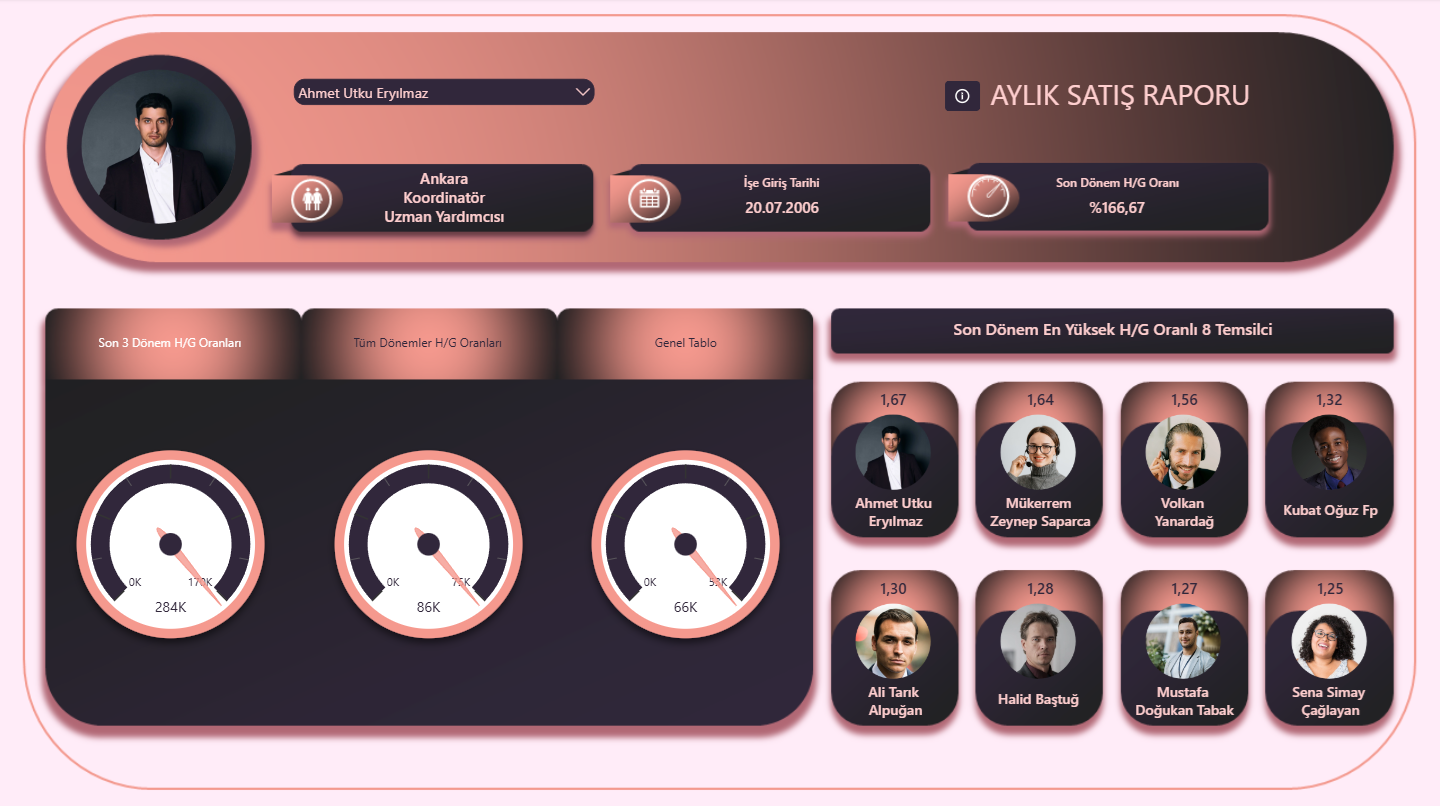

The page's visual inventory and layout, read from the dashboard file:
{"tool":"powerbi","page":{"name":"1. sayfa","canvas":[1920,1080],"ordinal":0},"visuals":[{"type":"slicer","fields":{"Values":["son_dönem.Personel İsmi"]},"box":[388.1,102.1,410,46.7],"z":0},{"type":"tableEx","fields":{"Values":["son_dönem.Foto Url"]},"box":[89,40.9,272.8,296.2],"z":1000},{"type":"card","fields":{"Values":["Min(son_dönem.Bölgesi)"]},"box":[388.1,214.5,410,55.4],"z":2000},{"type":"card","fields":{"Values":["Min(son_dönem.Görevi)"]},"box":[388.1,241.5,410,51.1],"z":3000},{"type":"card","fields":{"Values":["Min(son_dönem.Ünvanı)"]},"box":[388.1,267,410,51.1],"z":4000},{"type":"textbox","box":[844.7,233.4,395.4,37.9],"z":5000},{"type":"card","fields":{"Values":["Min(son_dönem.İşe Giriş Tarihi)"]},"box":[837.4,255.3,410,51.1],"z":6000},{"type":"textbox","box":[1291.2,233.4,395.4,37.9],"z":6001},{"type":"card","fields":{"Values":["Sum(son_dönem.H/G)"]},"box":[1283.9,255.3,410,51.1],"z":6002},{"type":"textbox","box":[1107.4,426,749.9,40.9],"z":6003},{"type":"tableEx","fields":{"Values":["Ölçüler.birinci_foto"]},"box":[1119,500.4,148.8,175.1],"z":6004},{"type":"card","fields":{"Values":["Ölçüler.birinci_isim"]},"box":[1110.3,631.7,166.3,102.1],"z":6005},{"type":"card","fields":{"Values":["Ölçüler.birinci_hg"]},"box":[1107.4,485.8,166.3,102.1],"z":6006},{"type":"tableEx","fields":{"Values":["Ölçüler.ikinci_foto"]},"box":[1311.6,500.4,148.8,175.1],"z":6007},{"type":"card","fields":{"Values":["Ölçüler.ikinci_isim"]},"box":[1302.9,631.7,166.3,102.1],"z":6008},{"type":"card","fields":{"Values":["Ölçüler.ikinci_hg"]},"box":[1302.9,485.8,166.3,102.1],"z":6009},{"type":"tableEx","fields":{"Values":["Ölçüler.ucuncu_foto"]},"box":[1504.2,500.4,148.8,175.1],"z":6010},{"type":"card","fields":{"Values":["Ölçüler.ucuncu_isim"]},"box":[1495.4,631.7,166.3,102.1],"z":6011},{"type":"card","fields":{"Values":["Ölçüler.ucuncu_hg"]},"box":[1495.4,485.8,166.3,102.1],"z":6012},{"type":"tableEx","fields":{"Values":["Ölçüler.dorduncu_foto"]},"box":[1698,500.2,148.8,175.1],"z":6013},{"type":"card","fields":{"Values":["Ölçüler.dorduncu_isim"]},"box":[1689.3,631.5,166.3,102.1],"z":6014},{"type":"card","fields":{"Values":["Ölçüler.sekizinci_hg"]},"box":[1689.5,736.8,166.3,102.1],"z":6015},{"type":"tableEx","fields":{"Values":["Ölçüler.besinci_foto"]},"box":[1119,751.4,148.8,175.1],"z":6016},{"type":"card","fields":{"Values":["Ölçüler.besinci_isim"]},"box":[1110.3,882.7,166.3,102.1],"z":6017},{"type":"card","fields":{"Values":["Ölçüler.dorduncu_hg"]},"box":[1688,485.8,166.3,102.1],"z":6018},{"type":"tableEx","fields":{"Values":["Ölçüler.altinci_foto"]},"box":[1311.6,751.4,148.8,175.1],"z":6019},{"type":"card","fields":{"Values":["Ölçüler.altinci_isim"]},"box":[1301.4,882.7,166.3,102.1],"z":6020},{"type":"card","fields":{"Values":["Ölçüler.besinci_hg"]},"box":[1107.4,736.8,166.3,102.1],"z":6021},{"type":"tableEx","fields":{"Values":["Ölçüler.yedinci_foto"]},"box":[1504.2,751.4,148.8,175.1],"z":6022},{"type":"card","fields":{"Values":["Ölçüler.yedinci_isim"]},"box":[1495.4,882.7,166.3,102.1],"z":6023},{"type":"card","fields":{"Values":["Ölçüler.altinci_hg"]},"box":[1302.9,736.8,166.3,102.1],"z":6024},{"type":"tableEx","fields":{"Values":["Ölçüler.sekizinci_foto"]},"box":[1698.2,751.4,148.8,175.1],"z":6025},{"type":"card","fields":{"Values":["Ölçüler.sekizinci_isim"]},"box":[1689.5,882.7,166.3,102.1],"z":6026},{"type":"card","fields":{"Values":["Ölçüler.yedinci_hg"]},"box":[1495.4,736.8,166.3,102.1],"z":6027},{"type":"dg5AAA90EFEFE747CB9357C4FC19B85A58","fields":{"max":["Sum(tüm_dönem_hg.Hedef)"],"pointerValue":["Sum(tüm_dönem_hg.Satış)"],"percentage":["Sum(tüm_dönem_hg.H/G)"]},"box":[70.5,583.9,318.1,342.9],"z":6028},{"type":"dg5AAA90EFEFE747CB9357C4FC19B85A58","fields":{"max":["Sum(tüm_dönem_hg.Hedef)"],"pointerValue":["Sum(tüm_dönem_hg.Satış)"],"percentage":["Sum(tüm_dönem_hg.H/G)"]},"box":[413.6,583.9,318.1,342.9],"z":6029},{"type":"dg5AAA90EFEFE747CB9357C4FC19B85A58","fields":{"max":["Sum(tüm_dönem_hg.Hedef)"],"pointerValue":["Sum(tüm_dönem_hg.Satış)"],"percentage":["Sum(tüm_dönem_hg.H/G)"]},"box":[755.5,583.9,318.1,342.9],"z":6030},{"type":"bookmarkNavigator","box":[61.1,416.9,1023.8,85.5],"z":6034},{"type":"textbox","box":[1158.5,102.4,669,55.9],"z":6035},{"type":"actionButton","box":[1259.6,110.4,46.6,39.9],"z":6036}]}

Visuals, with their boxes in screenshot pixels (x1, y1, x2, y2), scaled from the page's 1920x1080 canvas onto the 1440x806 screenshot:
slicer - son_dönem.Personel İsmi: bbox=(291, 76, 599, 111)
tableEx - son_dönem.Foto Url: bbox=(67, 31, 271, 252)
card - Min(son_dönem.Bölgesi): bbox=(291, 160, 599, 201)
card - Min(son_dönem.Görevi): bbox=(291, 180, 599, 218)
card - Min(son_dönem.Ünvanı): bbox=(291, 199, 599, 237)
textbox: bbox=(634, 174, 930, 202)
card - Min(son_dönem.İşe Giriş Tarihi): bbox=(628, 191, 936, 229)
textbox: bbox=(968, 174, 1265, 202)
card - Sum(son_dönem.H/G): bbox=(963, 191, 1270, 229)
textbox: bbox=(831, 318, 1393, 348)
tableEx - Ölçüler.birinci_foto: bbox=(839, 373, 951, 504)
card - Ölçüler.birinci_isim: bbox=(833, 471, 957, 548)
card - Ölçüler.birinci_hg: bbox=(831, 363, 955, 439)
tableEx - Ölçüler.ikinci_foto: bbox=(984, 373, 1095, 504)
card - Ölçüler.ikinci_isim: bbox=(977, 471, 1102, 548)
card - Ölçüler.ikinci_hg: bbox=(977, 363, 1102, 439)
tableEx - Ölçüler.ucuncu_foto: bbox=(1128, 373, 1240, 504)
card - Ölçüler.ucuncu_isim: bbox=(1122, 471, 1246, 548)
card - Ölçüler.ucuncu_hg: bbox=(1122, 363, 1246, 439)
tableEx - Ölçüler.dorduncu_foto: bbox=(1274, 373, 1385, 504)
card - Ölçüler.dorduncu_isim: bbox=(1267, 471, 1392, 547)
card - Ölçüler.sekizinci_hg: bbox=(1267, 550, 1392, 626)
tableEx - Ölçüler.besinci_foto: bbox=(839, 561, 951, 691)
card - Ölçüler.besinci_isim: bbox=(833, 659, 957, 735)
card - Ölçüler.dorduncu_hg: bbox=(1266, 363, 1391, 439)
tableEx - Ölçüler.altinci_foto: bbox=(984, 561, 1095, 691)
card - Ölçüler.altinci_isim: bbox=(976, 659, 1101, 735)
card - Ölçüler.besinci_hg: bbox=(831, 550, 955, 626)
tableEx - Ölçüler.yedinci_foto: bbox=(1128, 561, 1240, 691)
card - Ölçüler.yedinci_isim: bbox=(1122, 659, 1246, 735)
card - Ölçüler.altinci_hg: bbox=(977, 550, 1102, 626)
tableEx - Ölçüler.sekizinci_foto: bbox=(1274, 561, 1385, 691)
card - Ölçüler.sekizinci_isim: bbox=(1267, 659, 1392, 735)
card - Ölçüler.yedinci_hg: bbox=(1122, 550, 1246, 626)
dg5AAA90EFEFE747CB9357C4FC19B85A58 - Sum(tüm_dönem_hg.Hedef) x Sum(tüm_dönem_hg.Satış): bbox=(53, 436, 291, 692)
dg5AAA90EFEFE747CB9357C4FC19B85A58 - Sum(tüm_dönem_hg.Hedef) x Sum(tüm_dönem_hg.Satış): bbox=(310, 436, 549, 692)
dg5AAA90EFEFE747CB9357C4FC19B85A58 - Sum(tüm_dönem_hg.Hedef) x Sum(tüm_dönem_hg.Satış): bbox=(567, 436, 805, 692)
bookmarkNavigator: bbox=(46, 311, 814, 375)
textbox: bbox=(869, 76, 1371, 118)
actionButton: bbox=(945, 82, 980, 112)
